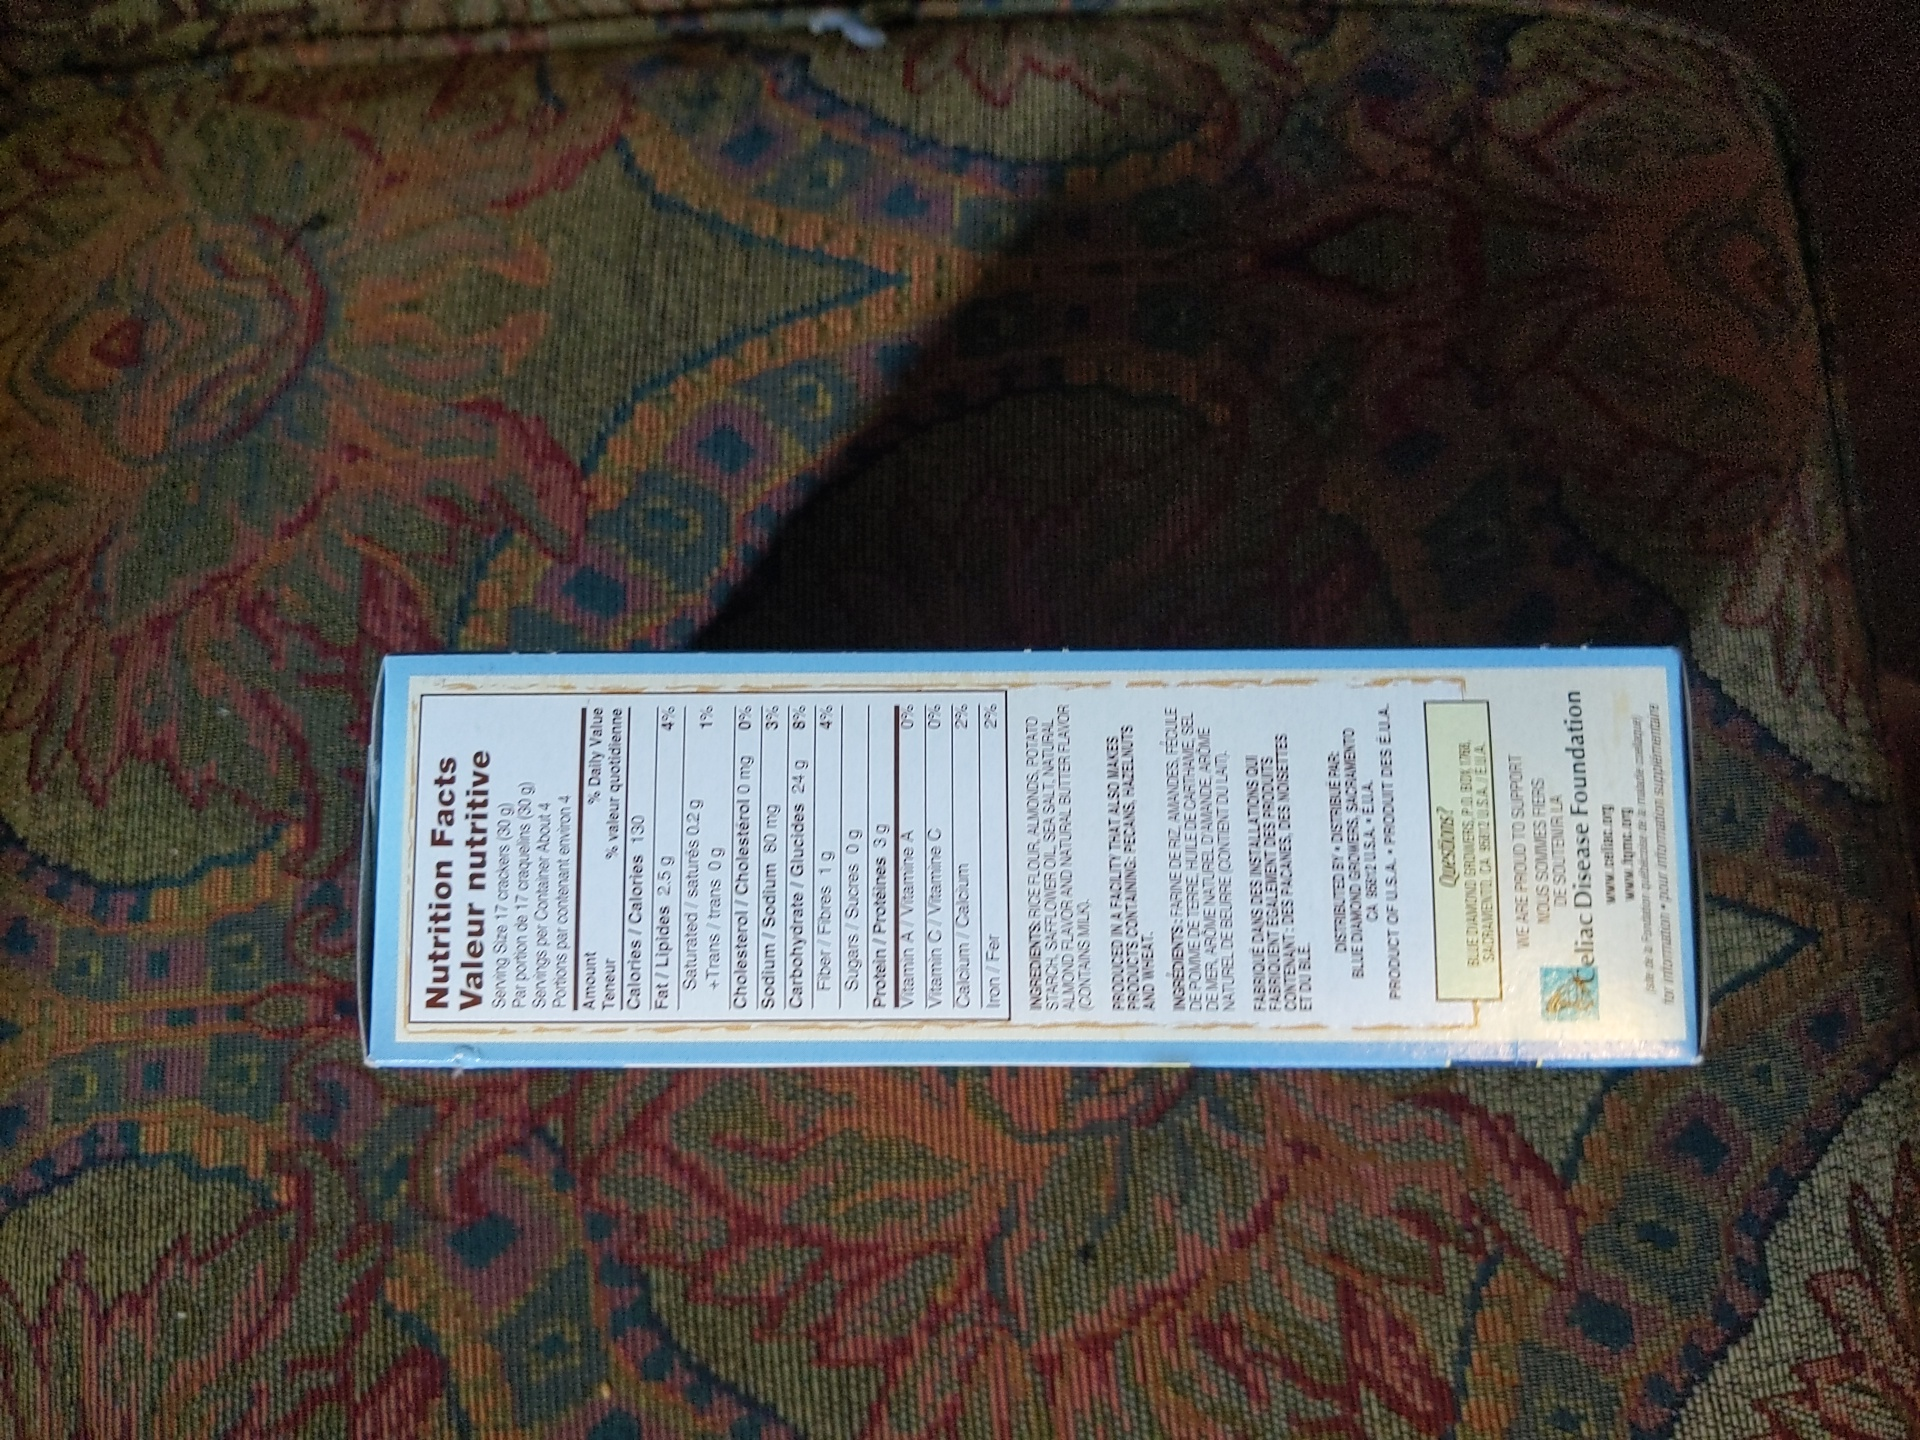blue_diamond_nut_thins_almond_seasalt: (378, 653, 1702, 1066)
